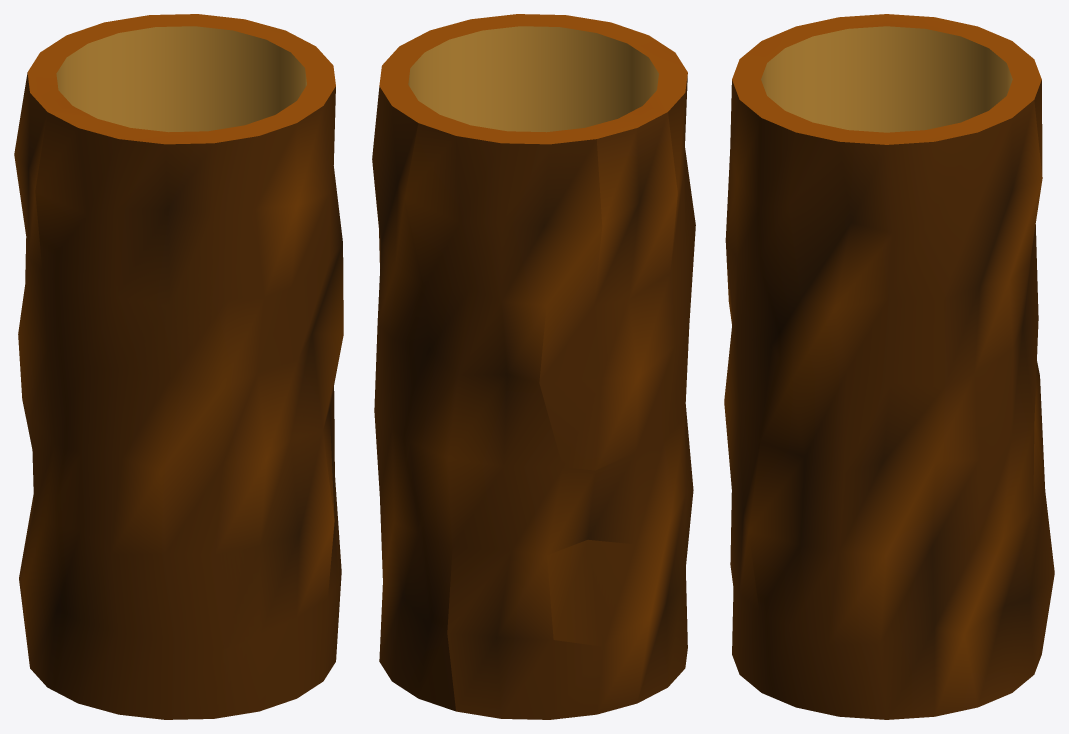
Rendered from TreeMiddle6.fbx.
3 renders of one model, left to right at view 1: azimuth 30°, elevation 25°; view 2: azimuth 150°, elevation 25°; view 3: azimuth 270°, elevation 25°, orthographic.
Visible parts, largest first — view 1: TreeMiddle6; view 2: TreeMiddle6; view 3: TreeMiddle6.
Boxes of the visible parts, x1,y1,x2,y2 form: TreeMiddle6: (14, 14, 343, 719); TreeMiddle6: (372, 14, 695, 719); TreeMiddle6: (724, 14, 1054, 719).
Size of the model in its own units: 199 by 383 by 199.
